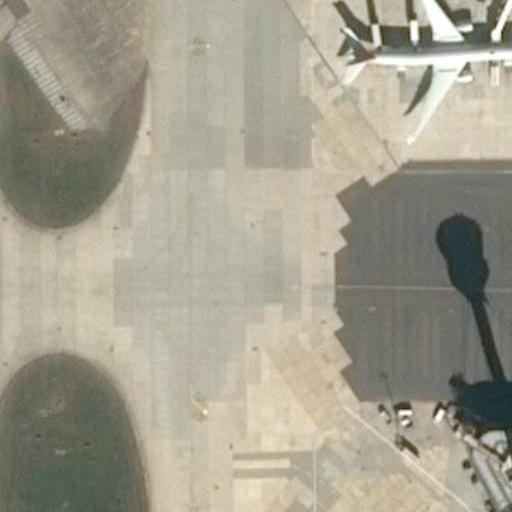Aircraft: (326, 0, 512, 138)
